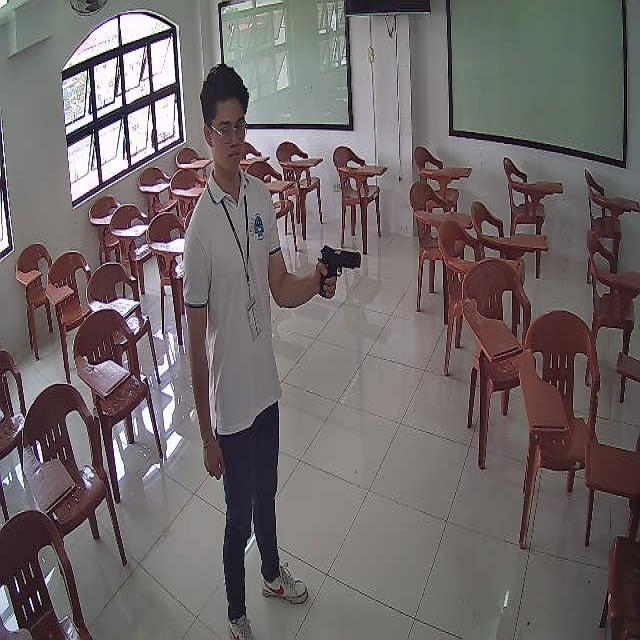pistol: (318, 245, 361, 299)
